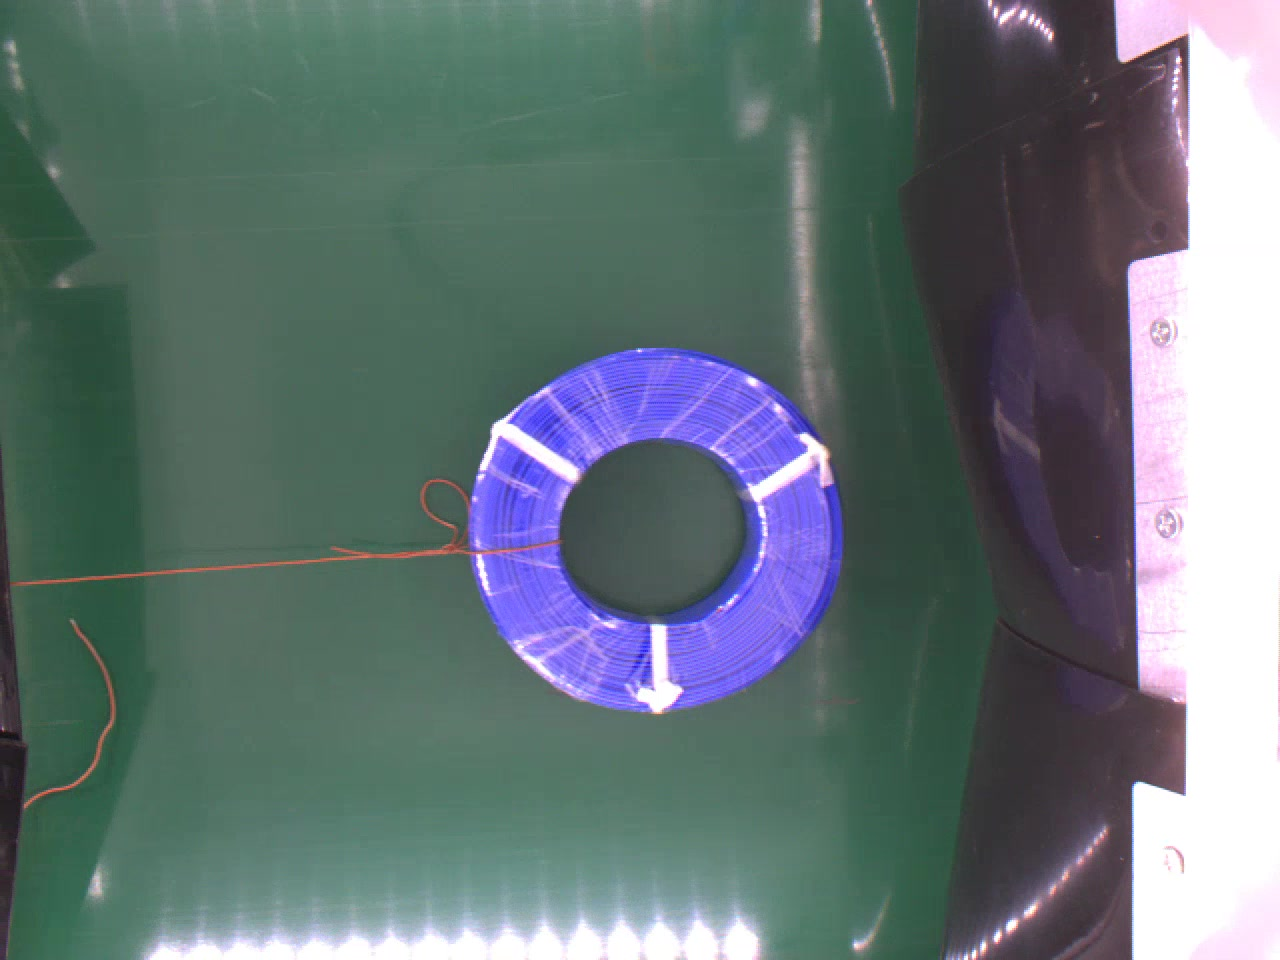blue: (467, 344, 846, 718)
